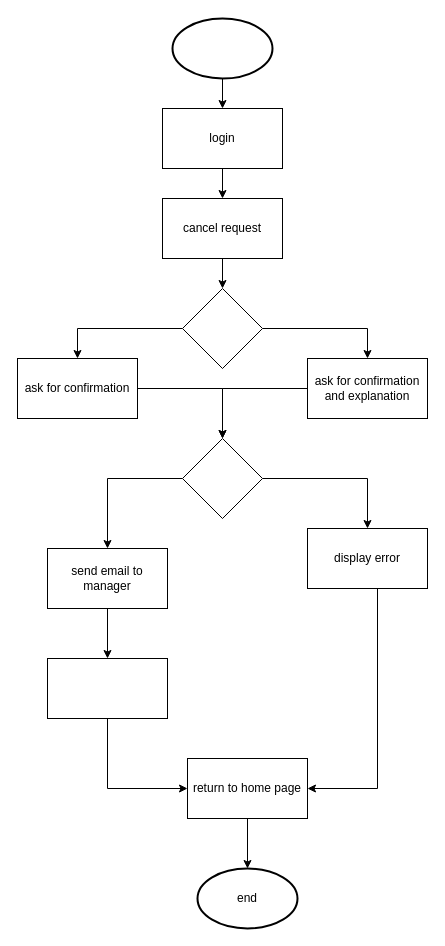
Some shapes in this 445 by 946 pixel diagram are drawn without their labels. Each missing label, with the box of its shape:
future request: (182, 288, 262, 368)
if employee confirm: (182, 438, 262, 518)
start: (171, 17, 273, 79)
update the status of the request: (46, 658, 168, 718)
